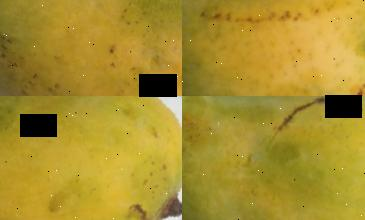PartiallyRipe: (182, 96, 365, 220), (0, 96, 182, 220), (182, 0, 365, 96), (0, 0, 182, 96)
